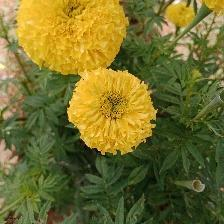marigold: (18, 1, 132, 74), (73, 67, 163, 156), (167, 5, 197, 29), (203, 1, 224, 22)
